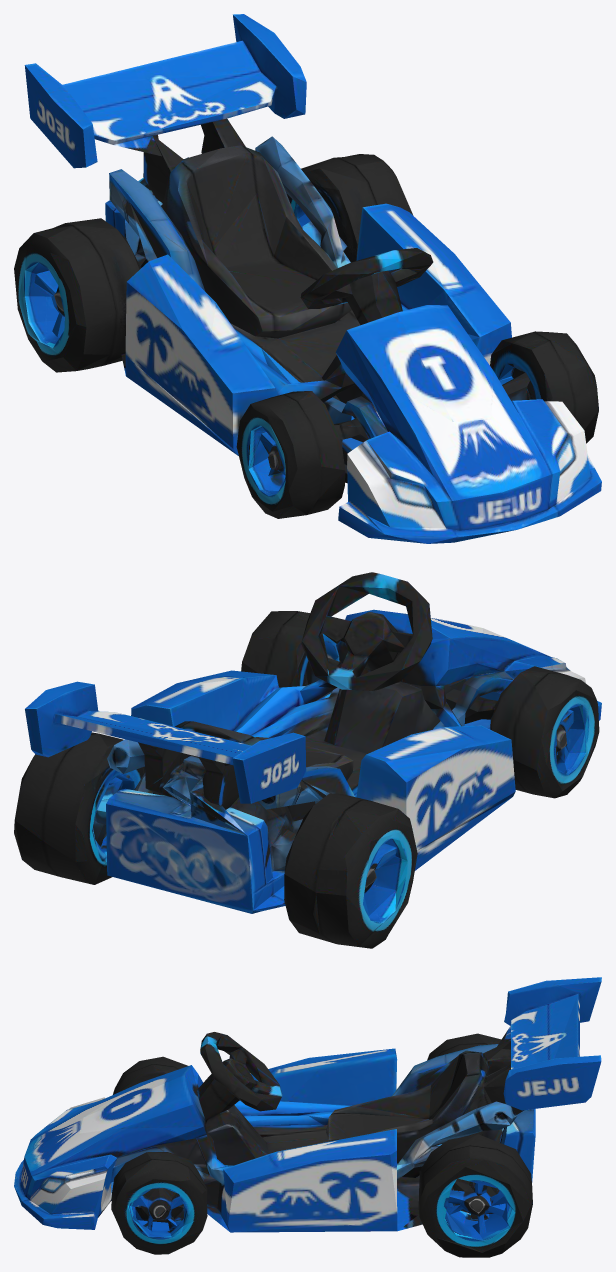
File: kart1.glb
The picture shows the model from 3 angles, top to bottom: view 1: azimuth 30°, elevation 25°; view 2: azimuth 150°, elevation 25°; view 3: azimuth 270°, elevation 25°; orthographic projection. The views are drawn at different scales.
Parts seen in each view (by area): view 1: body, wheel_BL, wheel_FL, wheel_BR, wheel_FR; view 2: body, wheel_BL, wheel_BR, wheel_FL, wheel_FR; view 3: body, wheel_BR, wheel_FR, wheel_FL, wheel_BL.
Boxes of the visible parts, x1,y1,x2,y2 form: body: [24, 14, 601, 543]; wheel_BL: [14, 200, 156, 375]; wheel_FL: [236, 384, 359, 518]; wheel_BR: [280, 154, 413, 262]; wheel_FR: [490, 331, 598, 443]; body: [25, 572, 601, 913]; wheel_BL: [247, 780, 417, 948]; wheel_BR: [14, 732, 152, 884]; wheel_FL: [448, 666, 599, 798]; wheel_FR: [241, 611, 341, 701]; body: [14, 977, 601, 1232]; wheel_BR: [397, 1118, 535, 1257]; wheel_FR: [108, 1152, 224, 1254]; wheel_FL: [113, 1056, 187, 1094]; wheel_BL: [427, 1033, 501, 1060].
Bounding box in the file's own units: 0.9953 × 0.6454 × 1.9.
1 material, 1 textured.
